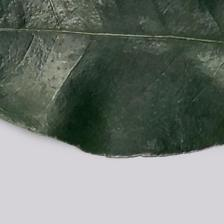healthy: (6, 4, 201, 139)
